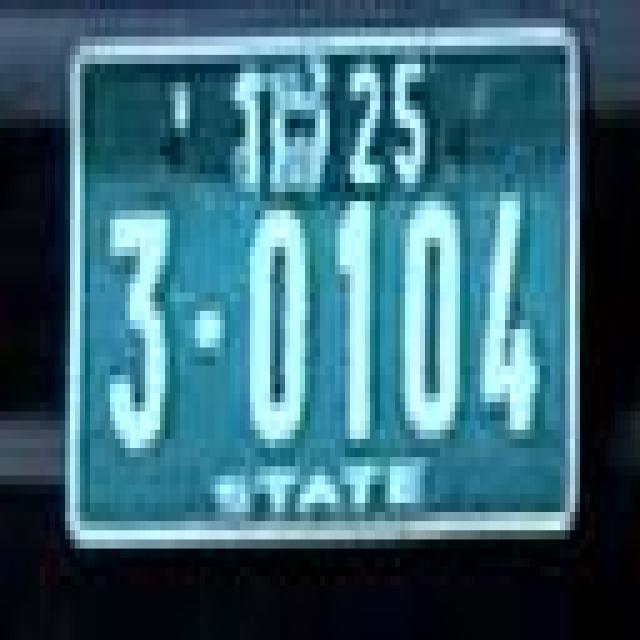State: (230, 55, 326, 204)
